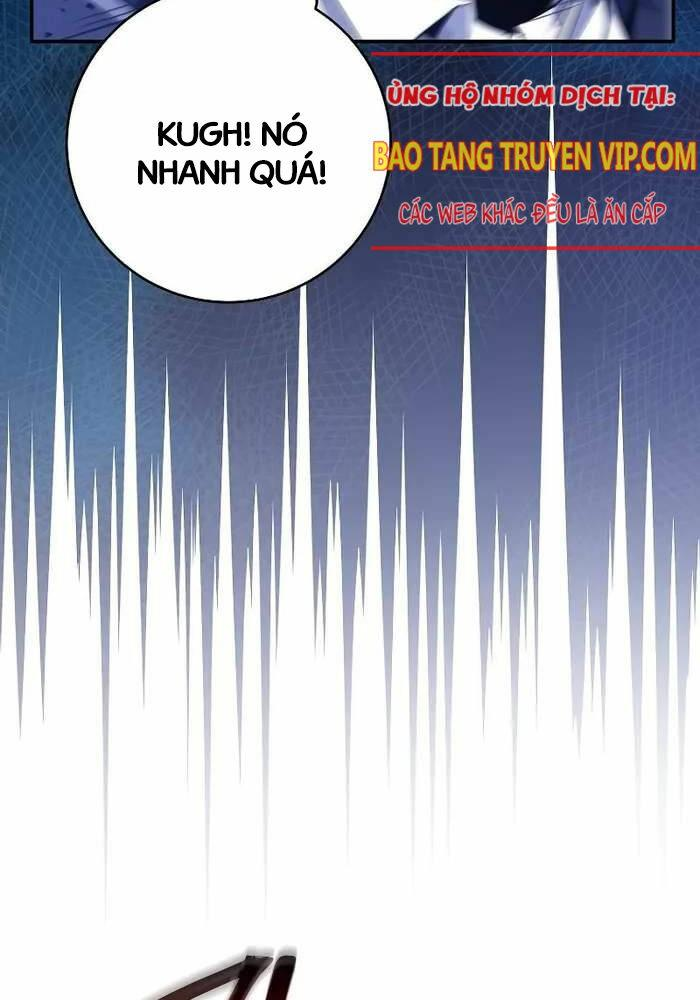quangcao: (367, 49, 700, 249)
